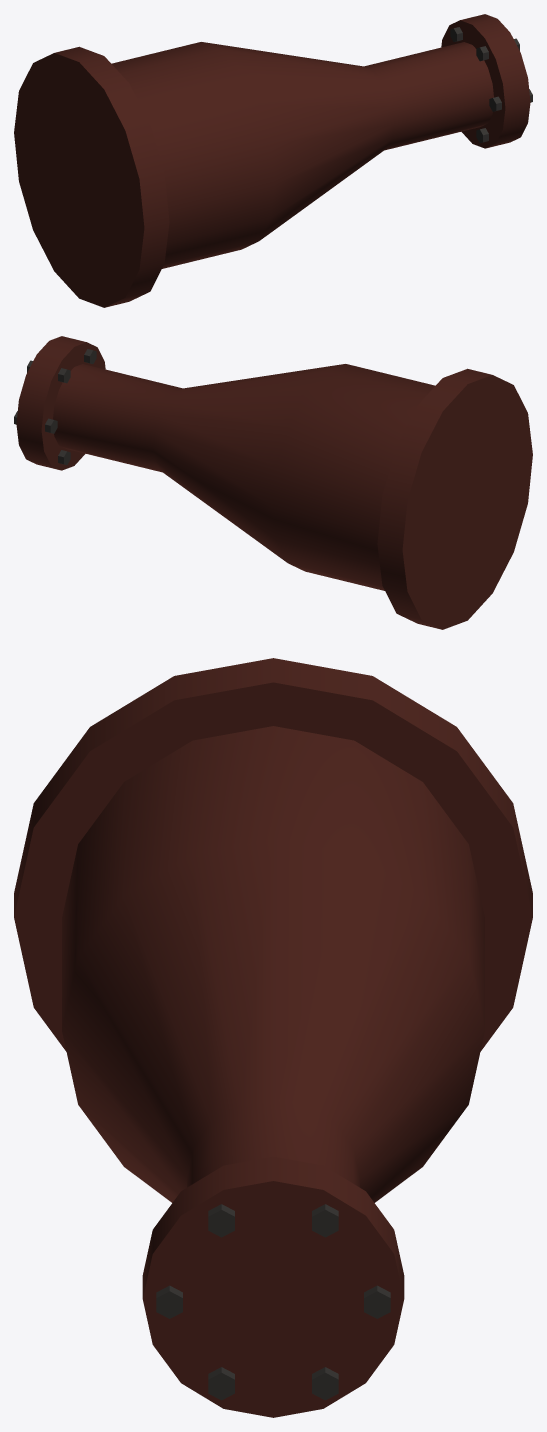
Rendered from PipeReducer.fbx.
3 renders of one model, top to bottom at view 1: azimuth 30°, elevation 25°; view 2: azimuth 150°, elevation 25°; view 3: azimuth 270°, elevation 25°, orthographic. The views are drawn at different scales.
Parts seen in each view (by area): view 1: PipeReducer_Pipe, PipeReducer_Bolts; view 2: PipeReducer_Pipe, PipeReducer_Bolts; view 3: PipeReducer_Pipe, PipeReducer_Bolts.
Boxes of the visible parts, x1,y1,x2,y2 form: PipeReducer_Pipe: (14,14,530,307); PipeReducer_Bolts: (450,27,532,143); PipeReducer_Pipe: (16,336,532,629); PipeReducer_Bolts: (14,349,96,465); PipeReducer_Pipe: (14,658,532,1417); PipeReducer_Bolts: (156,1204,390,1400).
Size of the model in its own units: 0.507 by 0.27 by 0.27.
